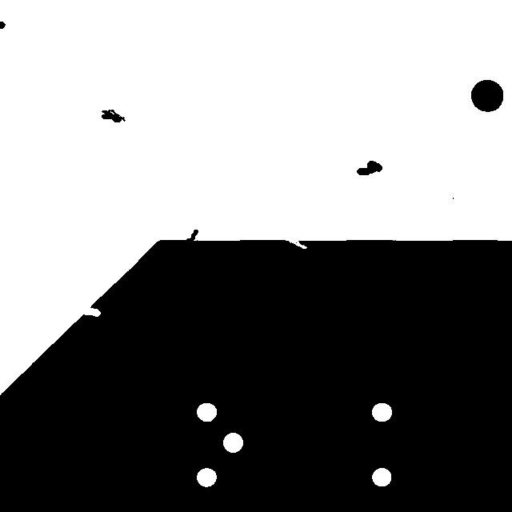copper: (349, 153, 390, 182), (94, 102, 133, 130)
mousebite: (74, 300, 108, 324), (281, 232, 314, 256)
pin-hole: (215, 425, 250, 460)
spur: (178, 222, 206, 250)
